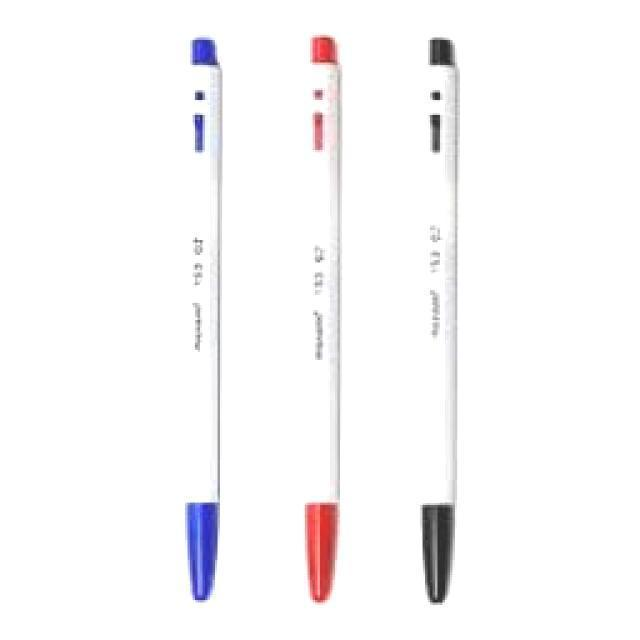pen: (420, 35, 463, 618)
